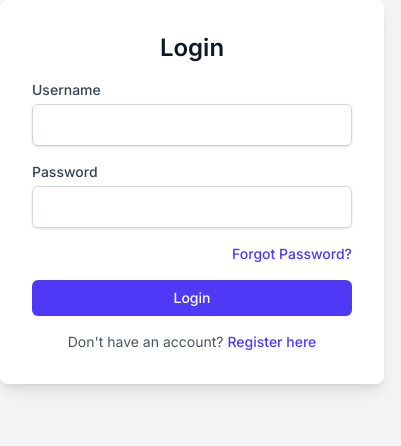
Test: App Components Suite › LoginForm › displays error message when login fails
This screenshot has width=401, height=446.
Type "bad" into the field labelled "Username" at (192, 125), box 32,104 -> 352,146
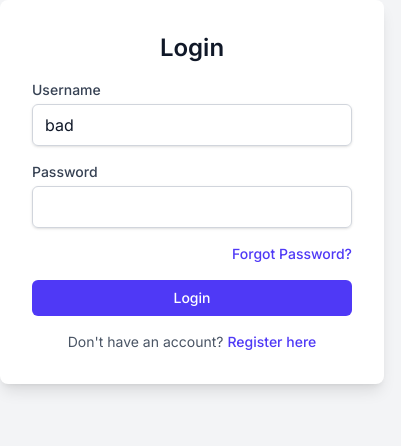
Type "bad" into the password field labelled "Password" at (192, 207), box 32,186 -> 352,228
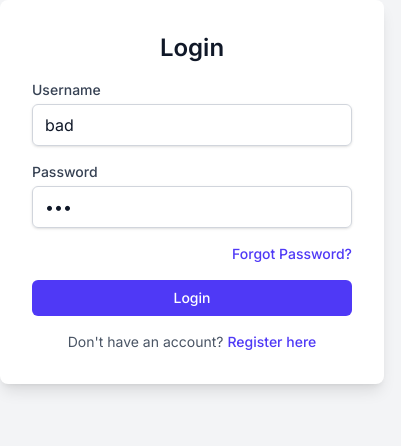
Click the button "Login" at (192, 298), box 32,280 -> 352,316
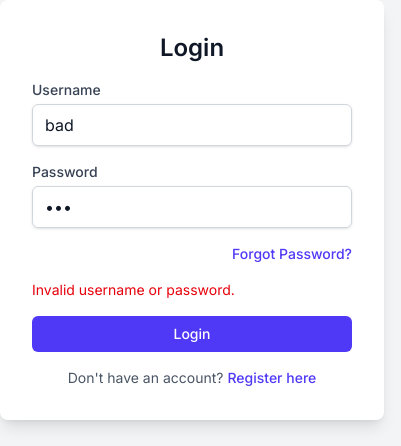
expect the text "Invalid username or password." is shown: met, box 32,281 -> 235,298
